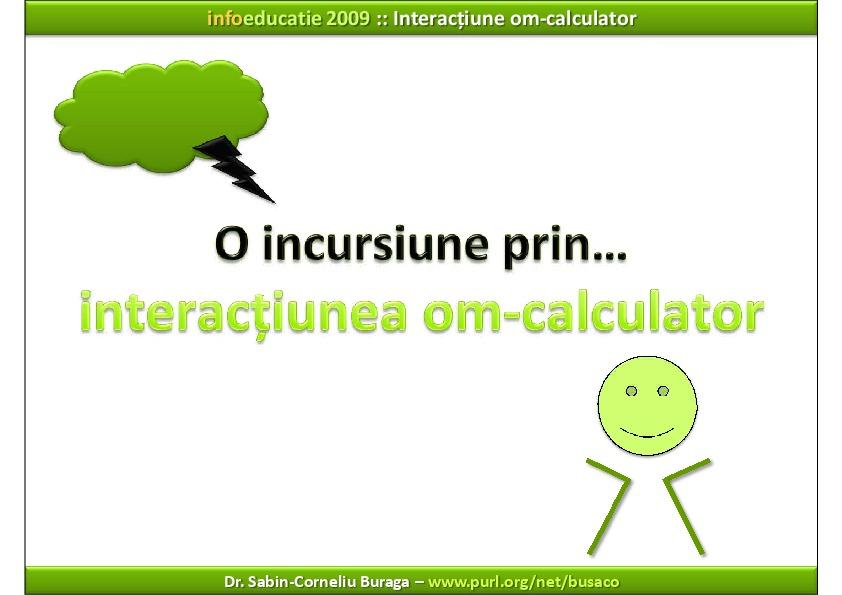subtitle: (59, 211, 774, 365)
title: (204, 1, 646, 42)
